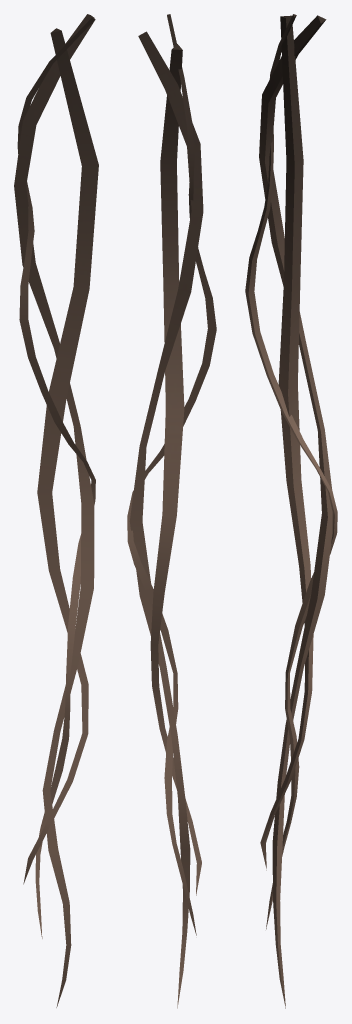
File: Jungle_Vines_Lrg_A.fbx
The picture shows the model from 3 angles, left to right: view 1: azimuth 30°, elevation 25°; view 2: azimuth 150°, elevation 25°; view 3: azimuth 330°, elevation 25°; orthographic projection. The views are drawn at different scales.
Visible parts, largest first — view 1: Jungle_Vines_Lrg_A; view 2: Jungle_Vines_Lrg_A; view 3: Jungle_Vines_Lrg_A.
Boxes of the visible parts, x1,y1,x2,y2 form: Jungle_Vines_Lrg_A: (14, 14, 98, 1007); Jungle_Vines_Lrg_A: (127, 14, 216, 1008); Jungle_Vines_Lrg_A: (245, 14, 337, 1008).
Size of the model in its own units: 0.9385 by 10.84 by 0.5949.
